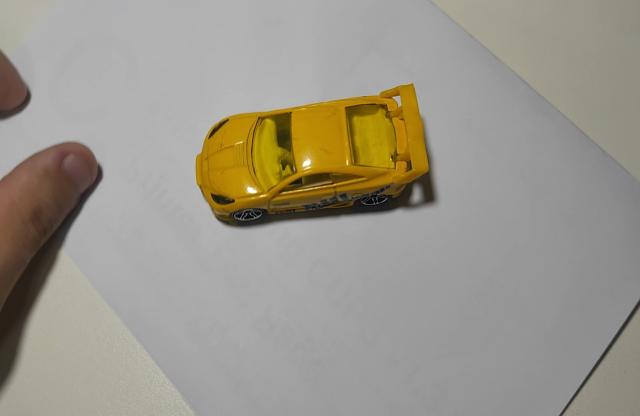07_RHLTURBO: (196, 86, 431, 226)
